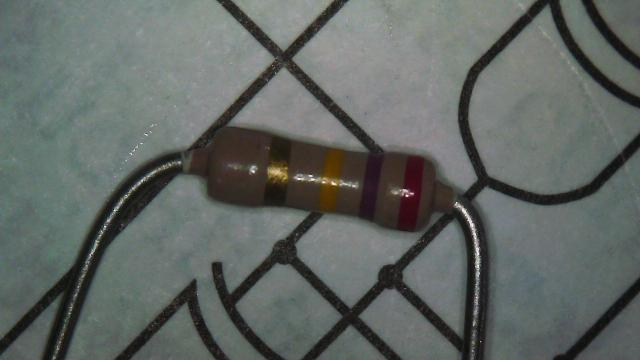gold: (263, 136, 290, 205)
red: (397, 156, 424, 230)
resistor: (188, 114, 458, 251)
violet: (358, 155, 383, 221)
yellow: (319, 148, 344, 212)
